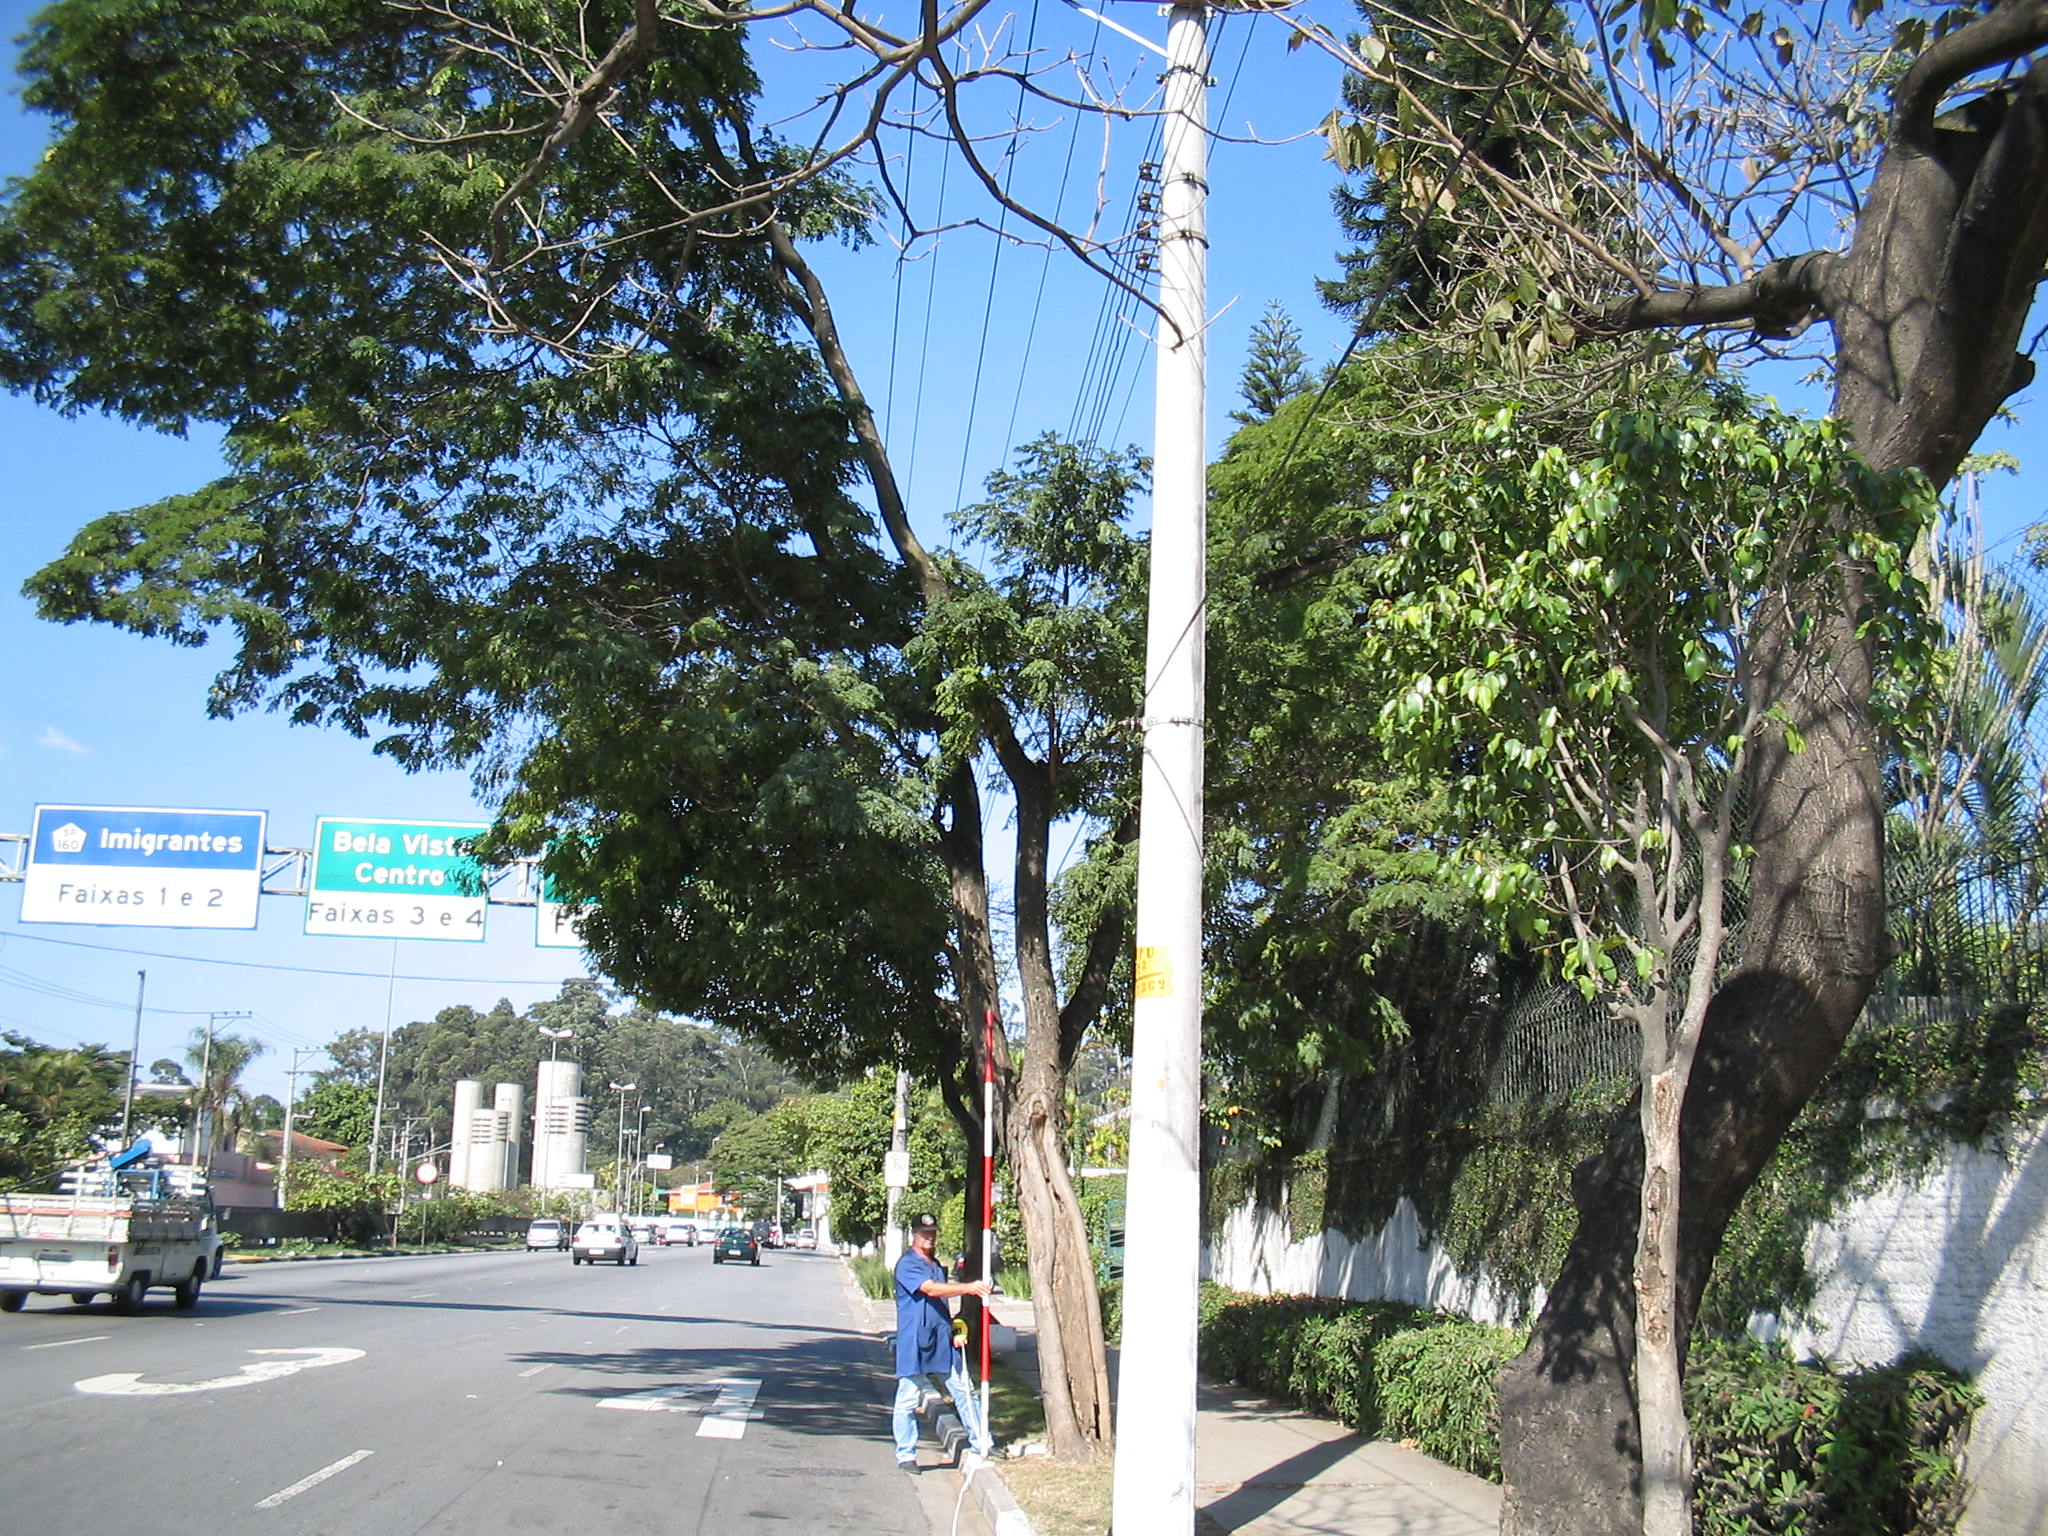crown: (1376, 389, 1951, 1052)
stem: (1000, 808, 1119, 1455), (1603, 1073, 1734, 1534)
stick: (963, 997, 1003, 1459)
tree: (1366, 386, 1956, 1536)
